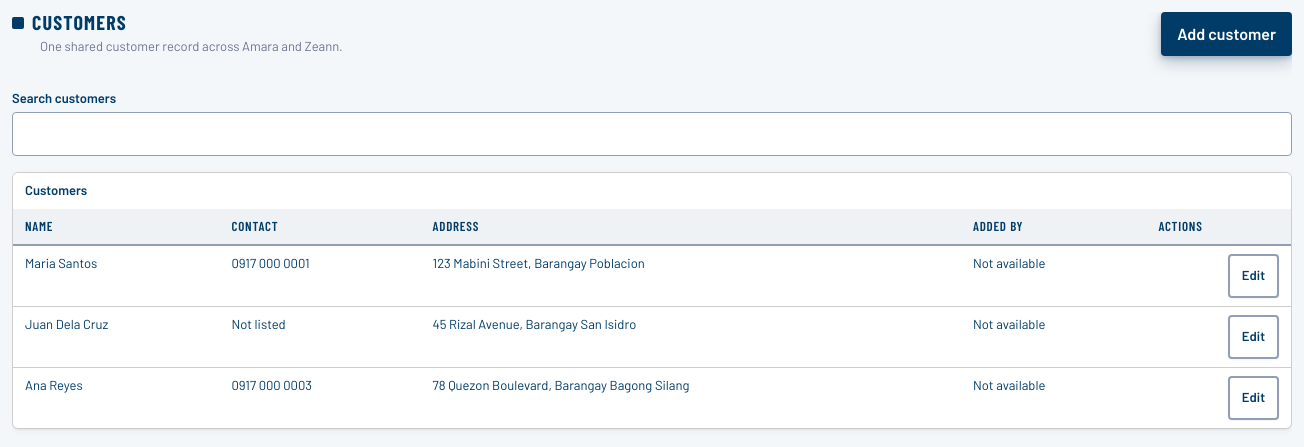
Test case: CustomerListPage › filters customers by search term
Check: the text "Maria Santos" is shown, box [13,245,220,307]
Type "Ana" into the field labelled "Search customers".
click(652, 134); type("Ana")  # box [12,112,1292,156]
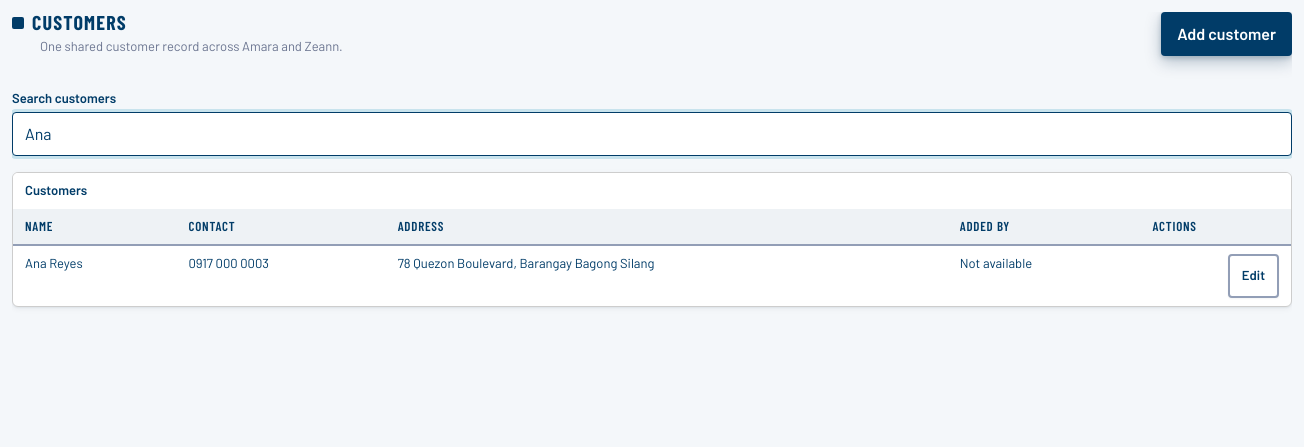
Check: the text "Ana Reyes" is shown, box [13,245,176,306]
Check: the text "Maria Santos" is gone
